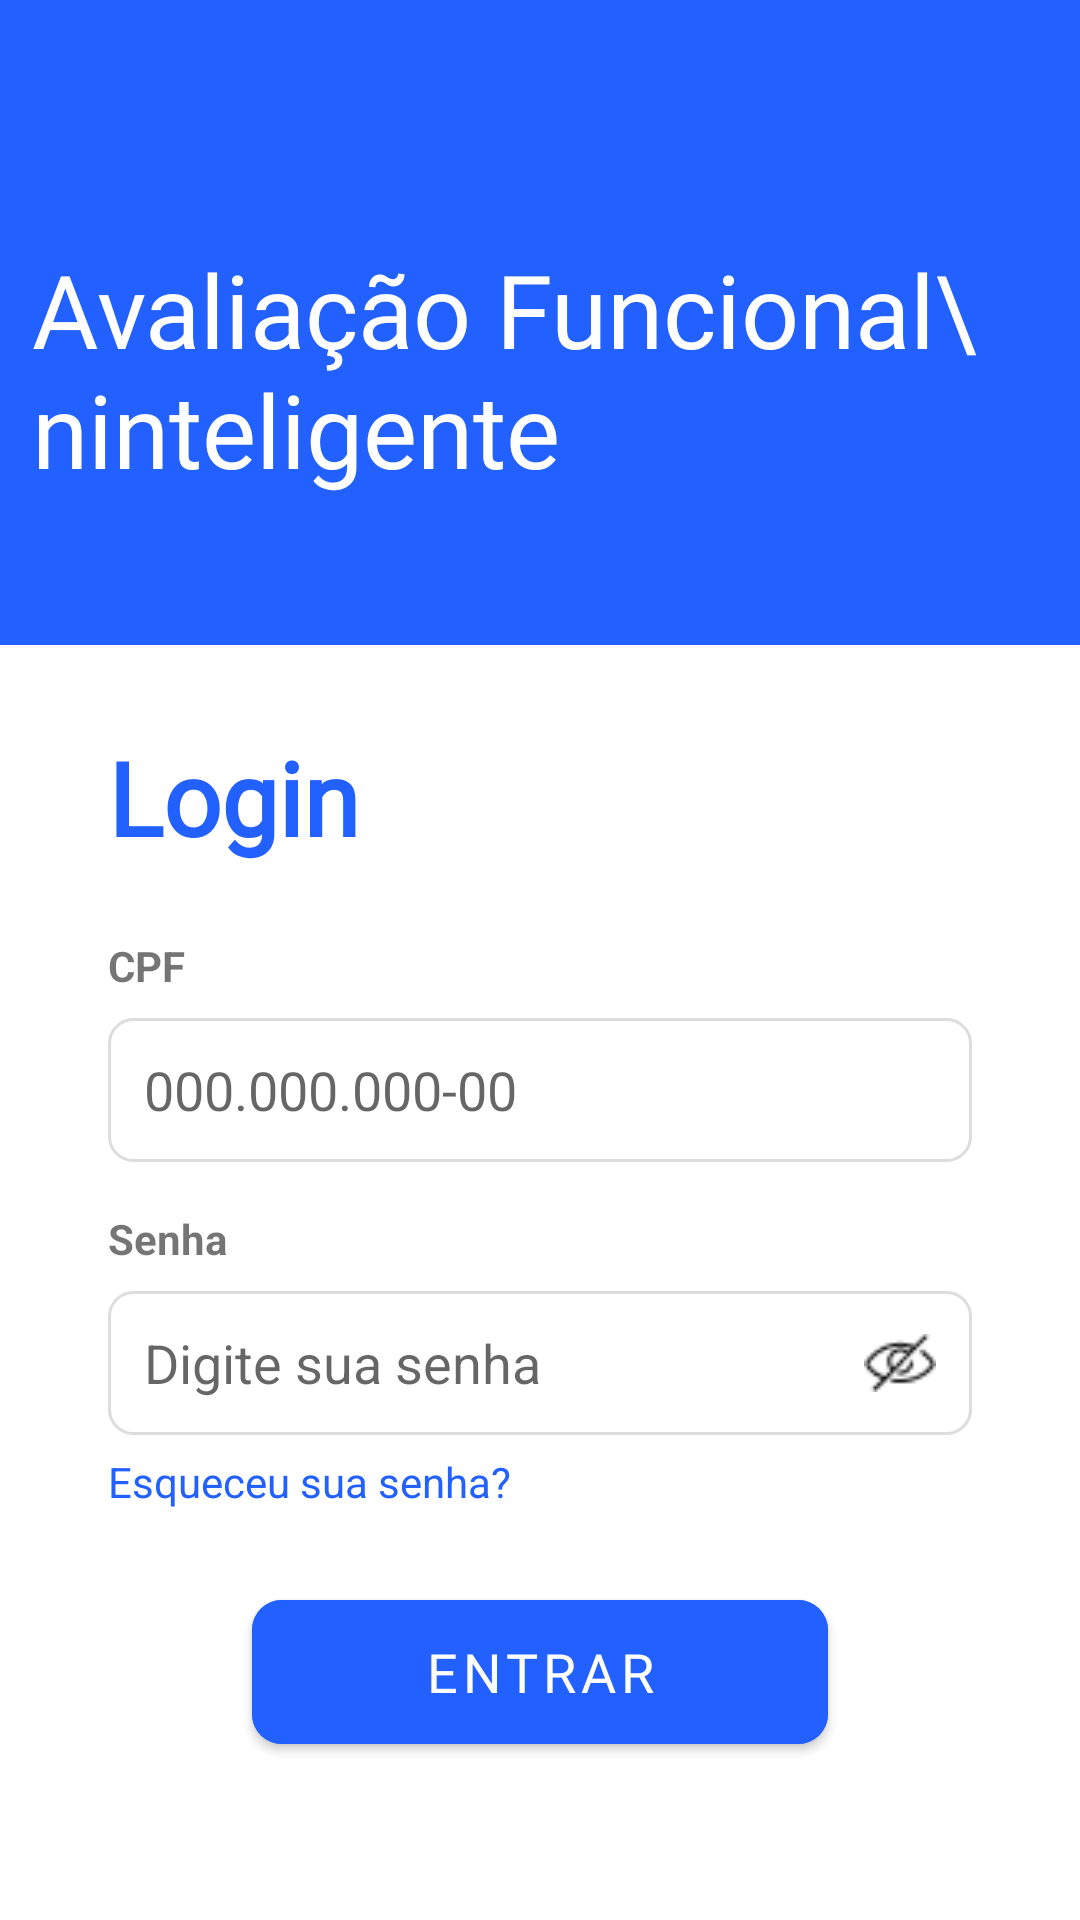

Where icons sit on this 1080px x 1920px app screen, as region(x1, y1, x2, y2):
eye: region(864, 1334, 936, 1392)
